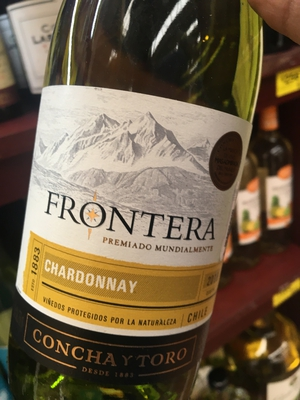frontera chardonnay: (25, 12, 264, 400)
